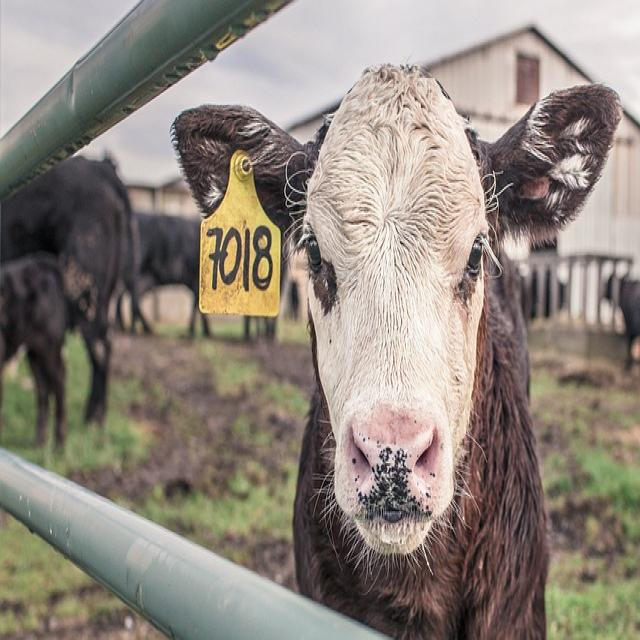Herbivorous: (170, 64, 622, 640)
